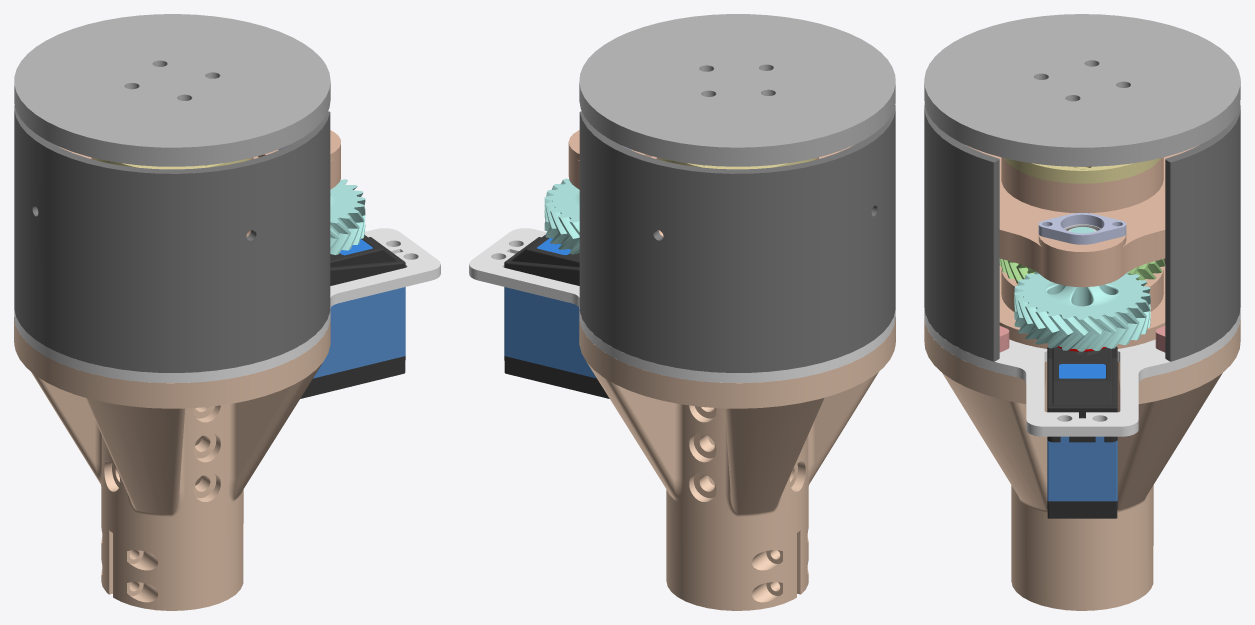
The model's file is tracking-antenna.glb.
The picture shows the model from 3 angles, left to right: view 1: azimuth 30°, elevation 25°; view 2: azimuth 150°, elevation 25°; view 3: azimuth 270°, elevation 25°; orthographic projection.
Visible parts, largest first — view 1: sheath_OPTIONAL-1, basePlate_101-1, yawPlate_201-1, Servo_SPT5435LV.step-2/Component1.step-1, componentStructure_103-3, HerringboneAssem_201-1/leftHandedHelix_202-1, housingCapOne_106-1, HerringboneAssem_201-1/rightHandedHelix_203-1; view 2: sheath_OPTIONAL-1, basePlate_101-1, yawPlate_201-1, Servo_SPT5435LV.step-2/Component1.step-1, componentStructure_103-3, HerringboneAssem_201-1/leftHandedHelix_202-1, housingCapOne_106-1; view 3: yawPlate_201-1, sheath_OPTIONAL-1, basePlate_101-1, housingCapOne_106-1, Servo_SPT5435LV.step-2/Component1.step-1, componentStructure_103-3, HerringboneAssem_201-1/leftHandedHelix_202-1, bearingBlockCombined-1, HerringboneAssem_201-1/rightHandedHelix_203-1, bearingCover_104-3, bearingCoverTwo_107-1, HerringboneAssemLarger_211-1/rightHandedHelix_213-1 (+1 smaller).
Part boxes in pixels (bbox=[...]): sheath_OPTIONAL-1: bbox=[14, 105, 330, 372]; basePlate_101-1: bbox=[14, 317, 330, 610]; yawPlate_201-1: bbox=[14, 14, 330, 166]; Servo_SPT5435LV.step-2/Component1.step-1: bbox=[300, 235, 405, 398]; componentStructure_103-3: bbox=[14, 228, 440, 382]; HerringboneAssem_201-1/leftHandedHelix_202-1: bbox=[330, 179, 365, 238]; housingCapOne_106-1: bbox=[58, 130, 340, 236]; HerringboneAssem_201-1/rightHandedHelix_203-1: bbox=[330, 215, 365, 254]; sheath_OPTIONAL-1: bbox=[579, 105, 895, 372]; basePlate_101-1: bbox=[579, 317, 895, 610]; yawPlate_201-1: bbox=[579, 14, 895, 166]; Servo_SPT5435LV.step-2/Component1.step-1: bbox=[504, 234, 609, 398]; componentStructure_103-3: bbox=[469, 228, 895, 382]; HerringboneAssem_201-1/leftHandedHelix_202-1: bbox=[544, 178, 579, 238]; housingCapOne_106-1: bbox=[568, 130, 851, 236]; yawPlate_201-1: bbox=[924, 14, 1240, 166]; sheath_OPTIONAL-1: bbox=[924, 105, 1240, 361]; basePlate_101-1: bbox=[924, 319, 1240, 610]; housingCapOne_106-1: bbox=[966, 145, 1198, 287]; Servo_SPT5435LV.step-2/Component1.step-1: bbox=[1047, 346, 1117, 518]; componentStructure_103-3: bbox=[924, 308, 1240, 436]; HerringboneAssem_201-1/leftHandedHelix_202-1: bbox=[1014, 227, 1150, 335]; bearingBlockCombined-1: bbox=[999, 265, 1165, 348]; HerringboneAssem_201-1/rightHandedHelix_203-1: bbox=[1014, 304, 1150, 351]; bearingCover_104-3: bbox=[1004, 158, 1160, 183]; bearingCoverTwo_107-1: bbox=[1038, 213, 1126, 244]; HerringboneAssemLarger_211-1/rightHandedHelix_213-1: bbox=[999, 258, 1165, 284].
Bounding box in the file's own units: 0.126 × 0.1569 × 0.09.
